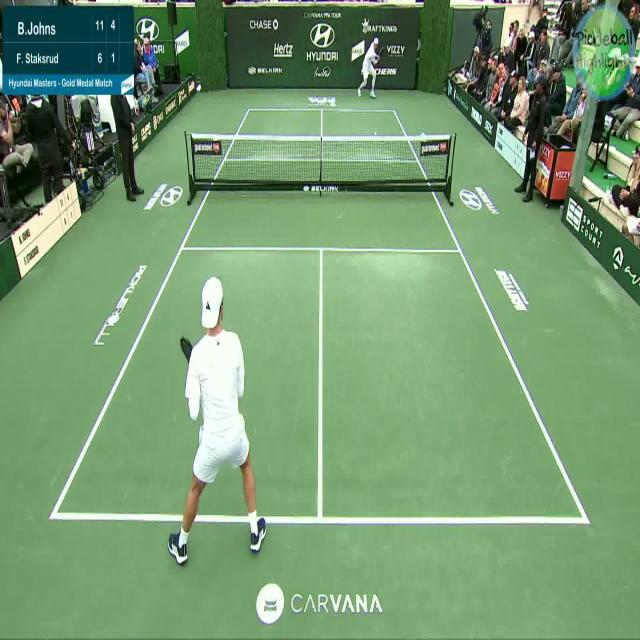ball: (372, 128, 382, 142)
